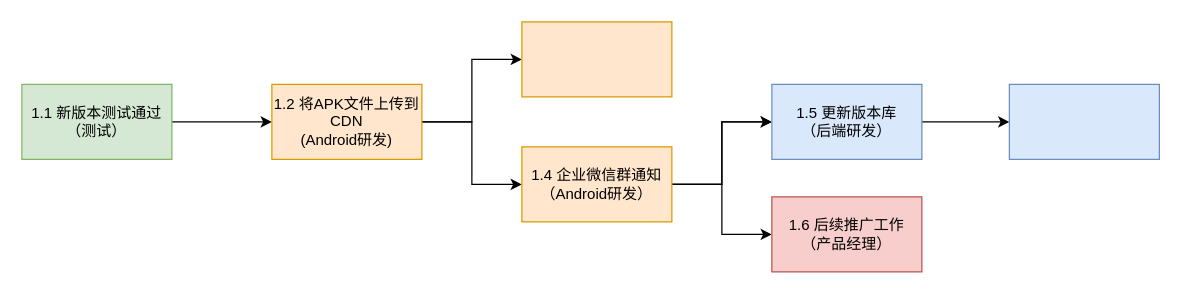
Some shapes in this 1181 by 294 pixel diagram are drawn without their labels. The box of each missing label's shape, as (x1, y1, x2, y2) in pixels:
1.3 发邮件通知 （Android研发）: (521, 21, 672, 97)
1.7 更新官网下载地址 （后端研发）: (1008, 83, 1159, 159)
